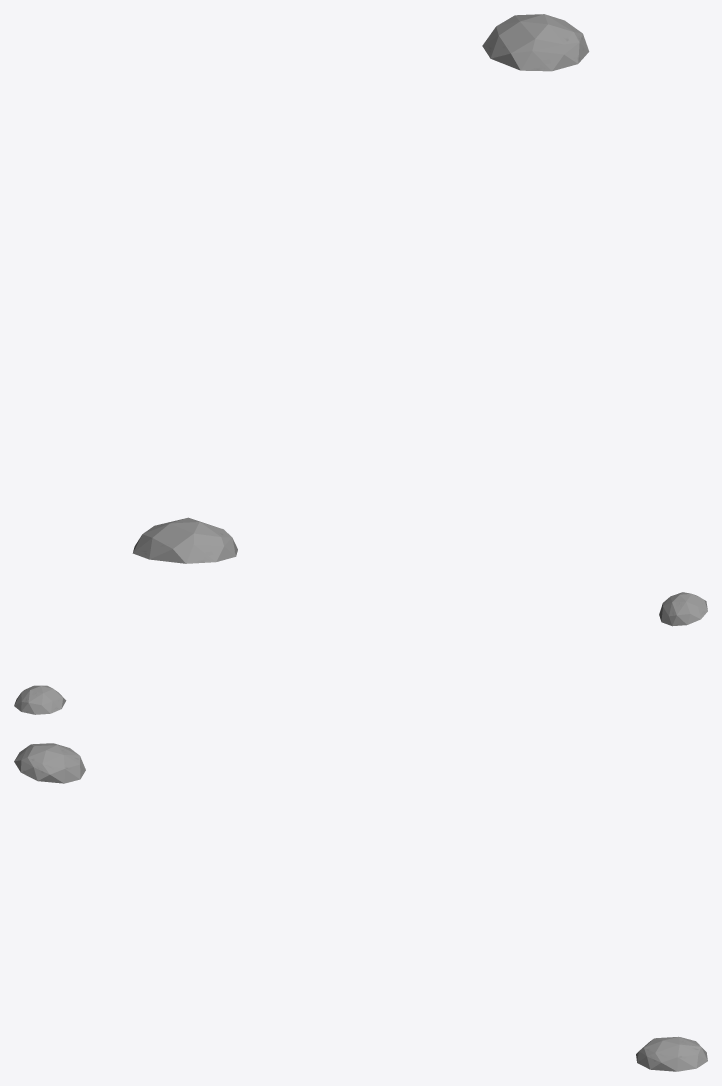
Rendered from Stones12.gltf.
The picture shows the model from 3 angles, top to bottom: view 1: azimuth 30°, elevation 25°; view 2: azimuth 150°, elevation 25°; view 3: azimuth 270°, elevation 25°; orthographic projection. The views are drawn at different scales.
Visible parts, largest first — view 1: Stone3 - copy.002, Stone3 - copy.007; view 2: Stone3 - copy.007, Stone3 - copy.002; view 3: Stone3 - copy.007, Stone3 - copy.002.
Part boxes in pixels (bbox=[...]): Stone3 - copy.002: bbox=[482, 14, 589, 71]; Stone3 - copy.007: bbox=[132, 517, 237, 563]; Stone3 - copy.007: bbox=[659, 592, 707, 626]; Stone3 - copy.002: bbox=[14, 685, 66, 714]; Stone3 - copy.007: bbox=[14, 743, 85, 783]; Stone3 - copy.002: bbox=[636, 1036, 707, 1071].
Bounding box in the file's own units: 17.95 × 1.31 × 17.95.
Materials: 1 (1 with a texture image).
